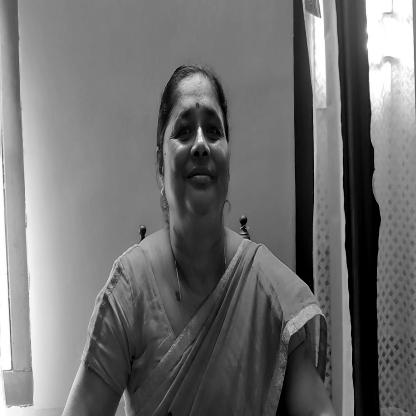Normal: (152, 75, 237, 248)
